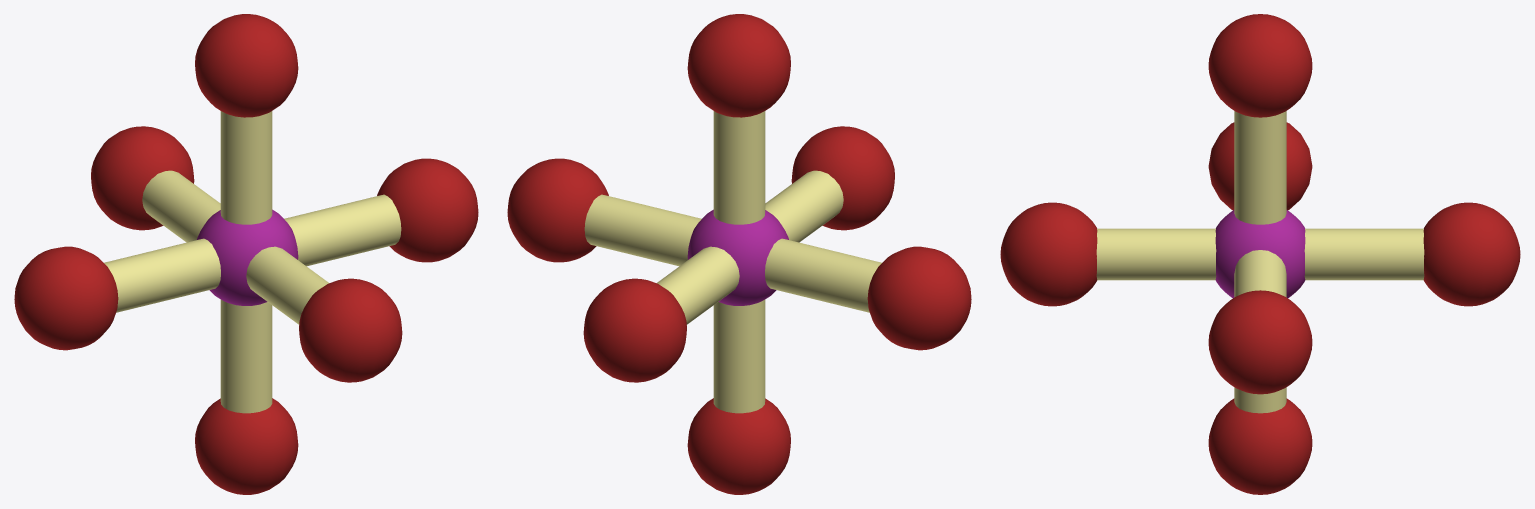
Rendered from octo.fbx.
3 renders of one model, left to right at view 1: azimuth 30°, elevation 25°; view 2: azimuth 150°, elevation 25°; view 3: azimuth 270°, elevation 25°, orthographic.
Visible parts, largest first — view 1: Atom1, Atom2, Atom5, Atom6, Atom3, Atom4, rod5, rod6, rod2, rod1, nuke, rod3 (+1 smaller); view 2: Atom2, Atom4, Atom5, Atom6, Atom3, Atom1, rod5, rod6, rod2, rod1, nuke, rod4 (+1 smaller); view 3: Atom3, Atom5, Atom1, Atom4, Atom6, rod3, rod4, rod5, nuke, Atom2, rod1, rod6.
Part boxes in pixels (<box>): Atom1: <box>299,278,402,382</box>; Atom2: <box>14,246,118,350</box>; Atom5: <box>195,14,298,117</box>; Atom6: <box>195,398,298,494</box>; Atom3: <box>377,158,478,262</box>; Atom4: <box>91,126,194,230</box>; rod5: <box>220,111,272,224</box>; rod6: <box>220,299,272,413</box>; rod2: <box>104,238,220,312</box>; rod1: <box>284,194,401,266</box>; nuke: <box>197,209,298,305</box>; rod3: <box>246,246,328,324</box>; Atom2: <box>867,246,971,350</box>; Atom4: <box>583,278,686,382</box>; Atom5: <box>687,14,790,117</box>; Atom6: <box>687,398,790,494</box>; Atom3: <box>507,158,608,262</box>; Atom1: <box>791,126,894,230</box>; rod5: <box>713,111,765,224</box>; rod6: <box>713,299,765,413</box>; rod2: <box>765,238,881,312</box>; rod1: <box>584,194,701,266</box>; nuke: <box>687,209,788,305</box>; rod4: <box>657,246,739,324</box>; Atom3: <box>1208,290,1312,394</box>; Atom5: <box>1208,14,1312,117</box>; Atom1: <box>1000,202,1097,306</box>; Atom4: <box>1423,202,1520,306</box>; Atom6: <box>1208,398,1312,494</box>; rod3: <box>1096,228,1216,280</box>; rod4: <box>1304,228,1424,280</box>; rod5: <box>1234,111,1286,224</box>; nuke: <box>1215,210,1305,297</box>; Atom2: <box>1208,122,1312,210</box>; rod1: <box>1234,250,1286,297</box>; rod6: <box>1234,387,1286,413</box>.
Size of the model in its own units: 10 by 10 by 10.
